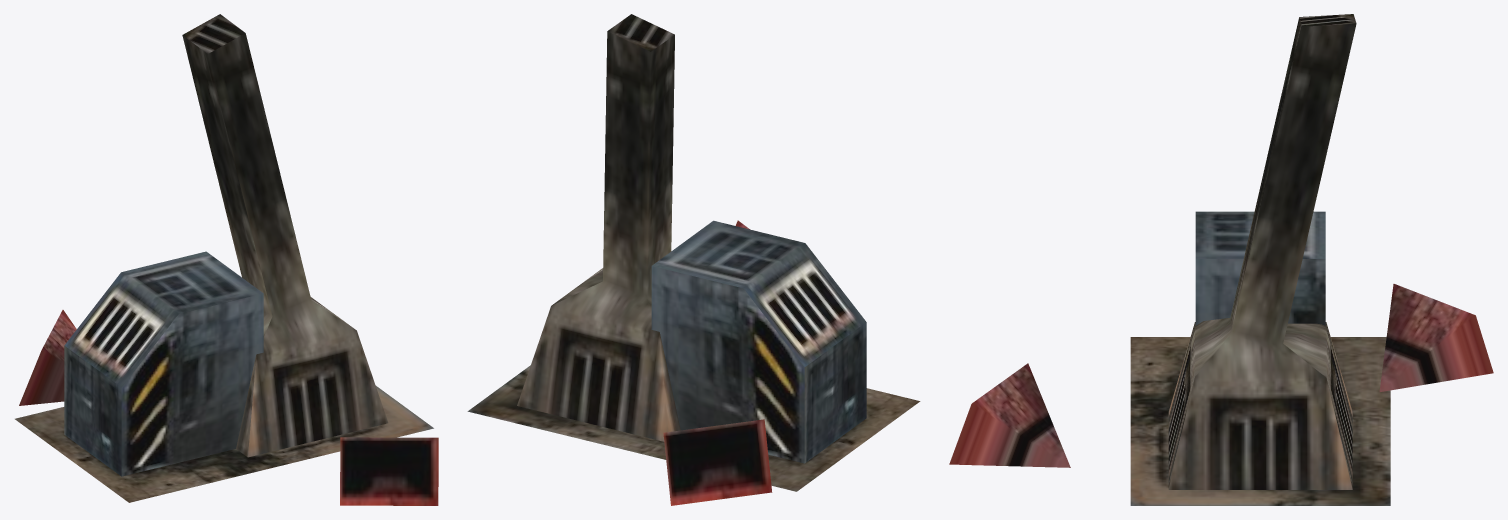
The model's file is perimeteralarm_dam_hdtex.glb.
3 renders of one model, left to right at view 1: azimuth 30°, elevation 25°; view 2: azimuth 150°, elevation 25°; view 3: azimuth 270°, elevation 25°, orthographic. The views are drawn at different scales.
Visible parts, largest first — view 1: perimeteralarm; view 2: perimeteralarm; view 3: perimeteralarm.
Part boxes in pixels (x1,y1,x2,y2): perimeteralarm: (15, 14, 438, 505); perimeteralarm: (467, 14, 920, 505); perimeteralarm: (949, 14, 1493, 505).
Size of the model in its own units: 5.35 by 6.2 by 7.29.
1 material, 1 textured.
